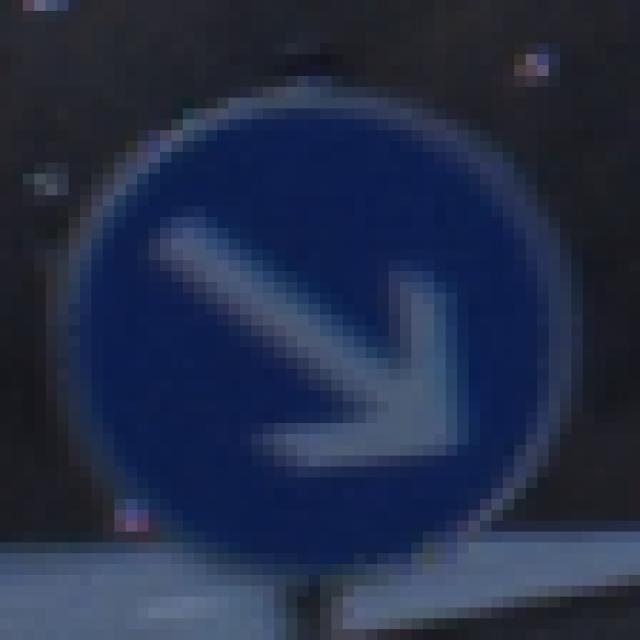compulsary keep right: (57, 102, 570, 552)
